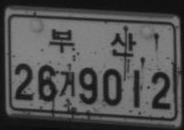0: (102, 67, 122, 106)
1: (128, 69, 145, 107)
2: (150, 70, 171, 109), (13, 62, 33, 100)
6: (36, 64, 57, 101)
9: (78, 66, 98, 104)
거: (59, 70, 75, 97)
부산_D: (49, 28, 136, 56)
